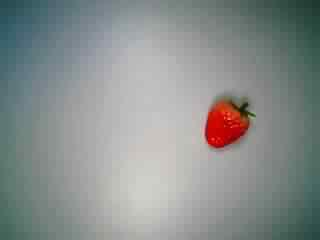strawberry: (191, 91, 257, 157)
